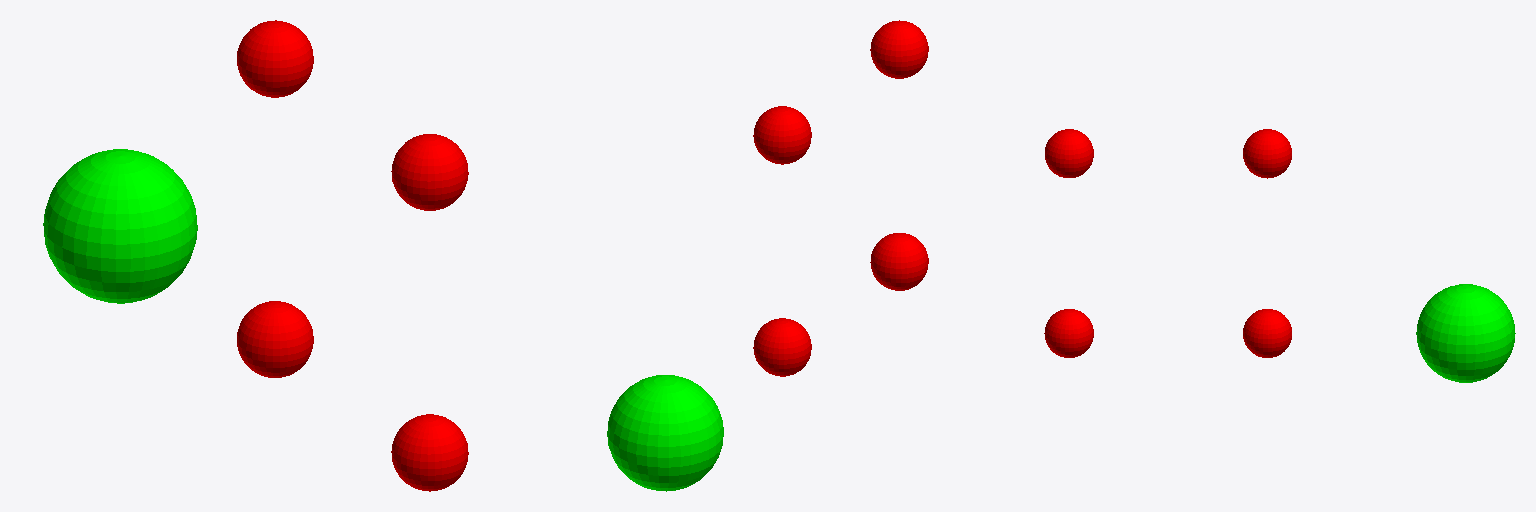
The robot description file, URDF, robot "FourDOF":
<?xml version="1.0"?>

<robot name="FourDOF">

  <!-- *************************************************** -->
  <!-- ***************** Kinematic Chain ***************** -->
  <!-- *************************************************** -->
  <!-- <link name="..."> is really a frame!                -->
  <!-- <joint name="..." type="fixed">      is a fixed shift.    -->
  <!-- <joint name="..." type="continuous"> is a revolute joint. -->
  <!-- <joint name="..." type="prismatic">  is a linear   joint. -->
  <!-- Note the 'origin' tag in the joints defines the shift and
       reorientation, i.e. the transform.  For moving joints, this
       happens before the continuous joint rotates around 'axis'. -->

  <link name="world">
  </link>

  <!-- Shift 0 -->
  <joint name="shift0" type="fixed">
    <parent link="world"/>
    <child  link="frame0prime"/>
    <origin xyz="0 0 0" rpy="0 0 0"/>
  </joint>

  <link name="frame0prime">
  </link>
 2
  <!-- Joint 1 -->
  <joint name="theta1" type="continuous">
    <parent link="frame0prime"/>
    <child  link="frame1"/>
    <axis   xyz="0 0 1"/>
  </joint>

  <link name="frame1">
  </link>

  <!-- Shift 1 and Joint 2 in one step... -->
 <joint name="theta2" type="continuous">
    <parent link="frame1"/>
    <child  link="frame2"/>
    <origin xyz="0 0 0.4" rpy="0 0 0"/>
    <axis   xyz="0 1 0"/>
  </joint>

  <link name="frame2">
  </link>

  <!-- Shift 2 and Joint 3 in one step... -->
 <joint name="theta3" type = "continuous">
    <parent link="frame2"/>
    <child  link="frame3"/>
    <origin xyz="0 0.4 0" rpy = "0 0 0"/>
    <axis   xyz="0 0 -1"/>
 </joint>
 <link name ="frame3">
 </link>

 <!-- Shift 3 and Joint 4 in one step-->
 <joint name="theta4" type = "continuous">
    <parent link="frame3"/>
    <child  link="frame4"/>
    <origin xyz="0 0 -0.4" rpy = "0 0 0"/>
    <axis   xyz="0 1 0"/>
 </joint>
 <link name="frame4">
 </link>

 <!--Shift 4 -->
 <joint name="shift4" type="fixed">
    <parent link="frame4"/>
    <child  link="tip"/>
    <origin xyz="0 0.4 0" rpy="0 0 0"/>
  </joint>
  <link name="tip">
  </link>


  <!-- *************************************************** -->
  <!-- ****************** Named Colors ******************* -->
  <!-- *************************************************** -->

  <material name="white">    <color rgba="1.00 1.00 1.00 1"/>  </material>
  <material name="gray">     <color rgba="0.60 0.60 0.60 1"/>  </material>
  <material name="table">    <color rgba="0.85 0.77 0.77 1"/>  </material>
  <material name="black">    <color rgba="0.00 0.00 0.00 1"/>  </material>

  <material name="red">      <color rgba="1.00 0.00 0.00 1"/>  </material>
  <material name="green">    <color rgba="0.00 1.00 0.00 1"/>  </material>
  <material name="blue">     <color rgba="0.00 0.00 1.00 1"/>  </material>

  <material name="cyan">     <color rgba="0.00 1.00 1.00 1"/>  </material>
  <material name="magenta">  <color rgba="1.00 0.00 1.00 1"/>  </material>
  <material name="yellow">   <color rgba="1.00 1.00 0.00 1"/>  </material>

  <material name="orange">   <color rgba="1.00 0.65 0.00 1"/>  </material>


  <!-- *************************************************** -->
  <!-- *********** Additional Visual Elements ************ -->
  <!-- *************************************************** -->

<!-- *** Attach a sphere to the tip *** -->
    <joint name="attach-sphere" type="fixed">
    <parent link="tip"/>
    <child  link="sphere"/>
  </joint>
  <link name="sphere">				<!-- Frame with sphere -->
    <visual>
      <origin xyz="0 0 0" rpy="0 0 0"/>		<!-- Center of sphere -->
      <geometry>
	<sphere radius="0.1" />			<!-- Size of sphere -->
      </geometry>
      <material name="green"/>			<!-- Color -->
    </visual>
  </link>


  <!-- *** Attach a sphere to the frame 1 *** -->
    <joint name="attach-sphere-frame1" type="fixed">
    <parent link="frame1"/>
    <child  link="frame1-sphere"/>
  </joint>
  <link name="frame1-sphere">				<!-- Frame with sphere -->
    <visual>
      <origin xyz="0 0 0" rpy="0 0 0"/>		<!-- Center of sphere -->
      <geometry>
	<sphere radius="0.05" />			<!-- Size of sphere -->
      </geometry>
      <material name="red"/>			<!-- Color -->
    </visual>
  </link>

    <!-- *** Attach a sphere to the frame 2 *** -->
    <joint name="attach-sphere-frame2" type="fixed">
    <parent link="frame2"/>
    <child  link="frame2-sphere"/>
  </joint>
  <link name="frame2-sphere">				<!-- Frame with sphere -->
    <visual>
      <origin xyz="0 0 0" rpy="0 0 0"/>		<!-- Center of sphere -->
      <geometry>
	<sphere radius="0.05" />			<!-- Size of sphere -->
      </geometry>
      <material name="red"/>			<!-- Color -->
    </visual>
  </link>

    <!-- *** Attach a sphere to the frame 3 *** -->
    <joint name="attach-sphere-frame3" type="fixed">
    <parent link="frame3"/>
    <child  link="frame3-sphere"/>
  </joint>
  <link name="frame3-sphere">				<!-- Frame with sphere -->
    <visual>
      <origin xyz="0 0 0" rpy="0 0 0"/>		<!-- Center of sphere -->
      <geometry>
	<sphere radius="0.05" />			<!-- Size of sphere -->
      </geometry>
      <material name="red"/>			<!-- Color -->
    </visual>
  </link>

    <!-- *** Attach a sphere to the frame 4*** -->
    <joint name="attach-sphere-frame4" type="fixed">
    <parent link="frame4"/>
    <child  link="frame4-sphere"/>
  </joint>
  <link name="frame4-sphere">				<!-- Frame with sphere -->
    <visual>
      <origin xyz="0 0 0" rpy="0 0 0"/>		<!-- Center of sphere -->
      <geometry>
	<sphere radius="0.05" />			<!-- Size of sphere -->
      </geometry>
      <material name="red"/>			<!-- Color -->
    </visual>
  </link>

</robot>

--- What the picture shows (computed from the rendered views, not written in the file) ---
Views: 3 orthographic renders of the robot side by side, from view 1: azimuth 30°, elevation 25°; view 2: azimuth 150°, elevation 25°; view 3: azimuth 270°, elevation 25°.
Robot: FourDOF — 12 links, 11 joints (4 continuous, 7 fixed); root link world; default pose: all joints at 0.
Links seen in each view (by area): view 1: sphere, frame4-sphere, frame1-sphere, frame3-sphere, frame2-sphere; view 2: sphere, frame4-sphere, frame3-sphere, frame2-sphere, frame1-sphere; view 3: sphere, frame1-sphere, frame4-sphere, frame3-sphere, frame2-sphere.
Boxes of the visible links, bbox=[...] form: sphere: bbox=[43, 149, 197, 303]; frame4-sphere: bbox=[237, 301, 313, 377]; frame1-sphere: bbox=[391, 414, 468, 491]; frame3-sphere: bbox=[237, 20, 313, 97]; frame2-sphere: bbox=[391, 134, 468, 210]; sphere: bbox=[607, 375, 723, 491]; frame4-sphere: bbox=[753, 318, 811, 376]; frame3-sphere: bbox=[753, 106, 811, 164]; frame2-sphere: bbox=[870, 20, 928, 78]; frame1-sphere: bbox=[870, 233, 928, 290]; sphere: bbox=[1416, 284, 1515, 382]; frame1-sphere: bbox=[1044, 309, 1093, 357]; frame4-sphere: bbox=[1243, 309, 1291, 357]; frame3-sphere: bbox=[1243, 129, 1291, 178]; frame2-sphere: bbox=[1045, 129, 1093, 177].
Bounding box of the posed robot: 0.2 × 0.95 × 0.55 m (x, y, z).
Geometry: primitives only (box / cylinder / sphere), no mesh files.